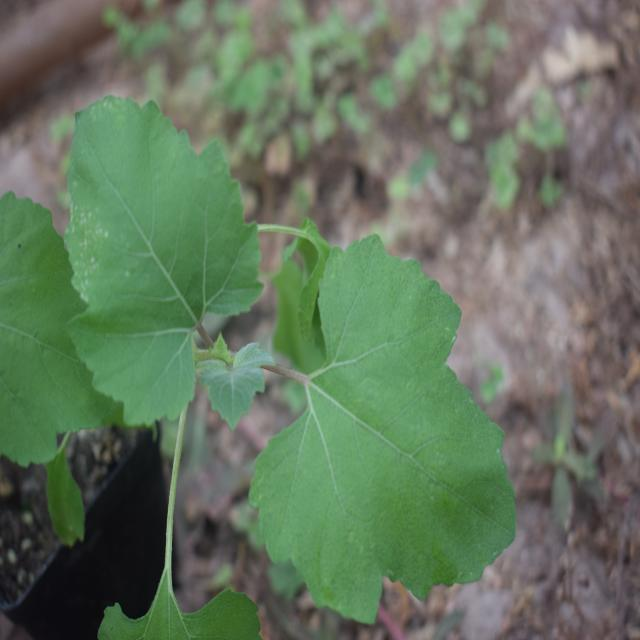cocklebur: (50, 66, 541, 614)
